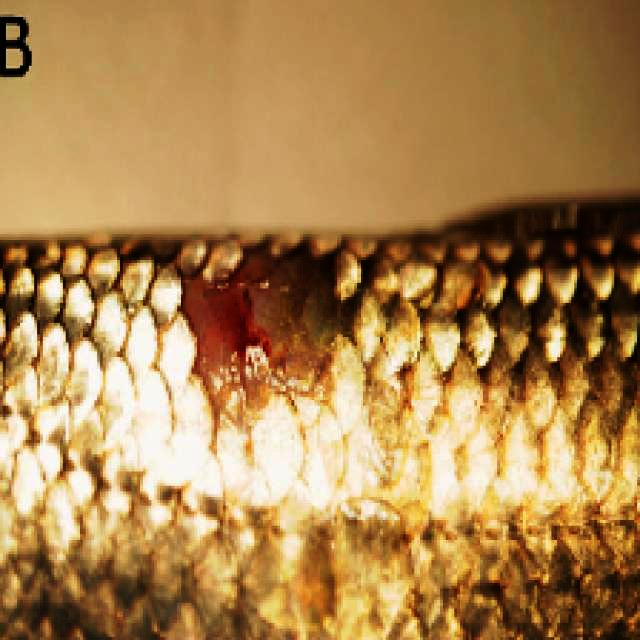Edwardsiella Ictaluri -Bacterial Red Disease-: (0, 195, 640, 640)
